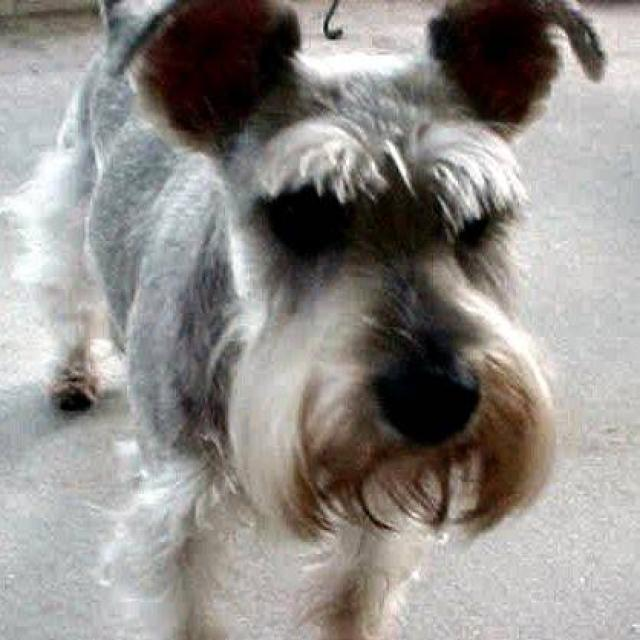dog: (0, 0, 606, 638)
